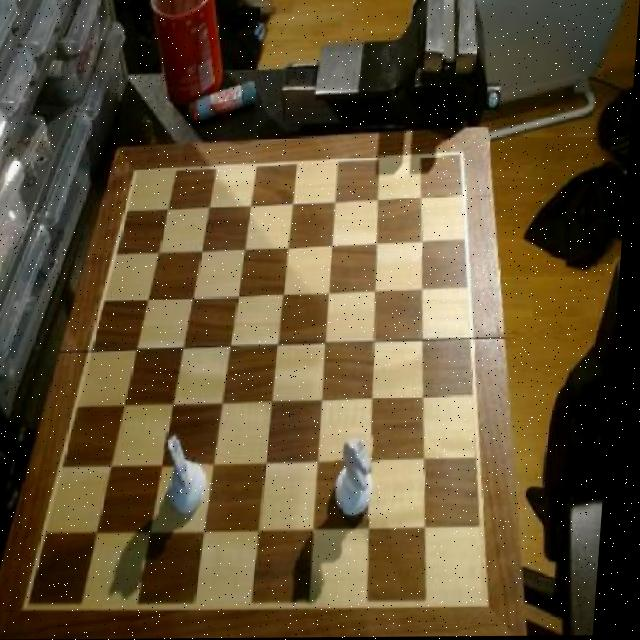white-king: (167, 429, 220, 517), (337, 434, 388, 519)
